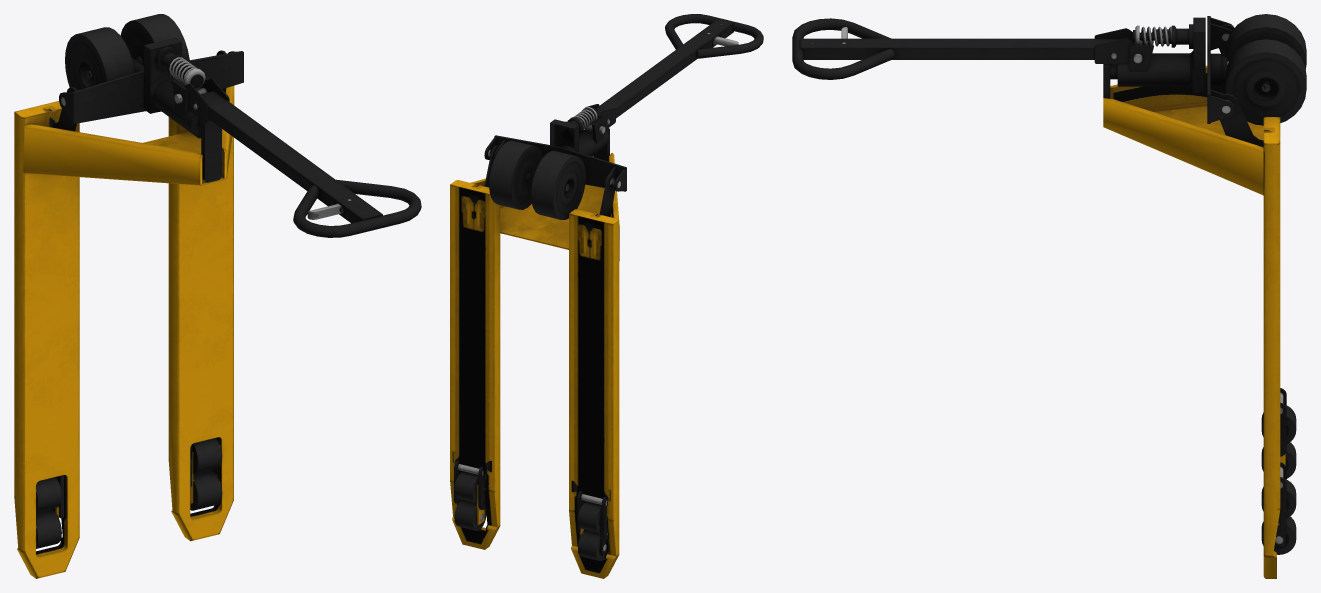
3 renders of one model, left to right at view 1: azimuth 30°, elevation 25°; view 2: azimuth 150°, elevation 25°; view 3: azimuth 270°, elevation 25°, orthographic. The views are drawn at different scales.
Parts seen in each view (by area): view 1: Arm_LP.002; view 2: Arm_LP.002; view 3: Arm_LP.002.
Boxes of the visible parts, x1,y1,x2,y2 form: Arm_LP.002: (14,14,421,578); Arm_LP.002: (450,14,763,578); Arm_LP.002: (792,14,1306,578).
Bounding box in the file's own units: 0.5371 × 1.3 × 1.19.
Materials: 1 (1 with a texture image).
